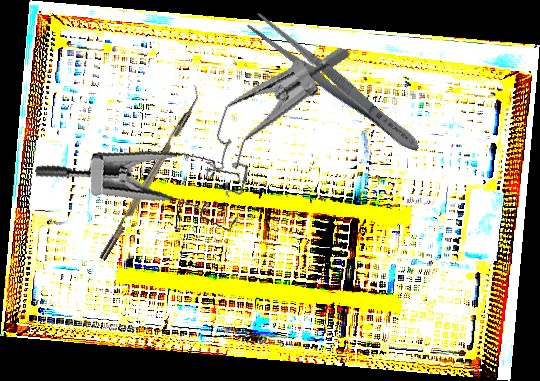Chopper: (91, 83, 207, 262)
Dressing Forceps: (244, 9, 426, 159)
Speculum: (194, 18, 354, 220), (33, 124, 260, 266)
